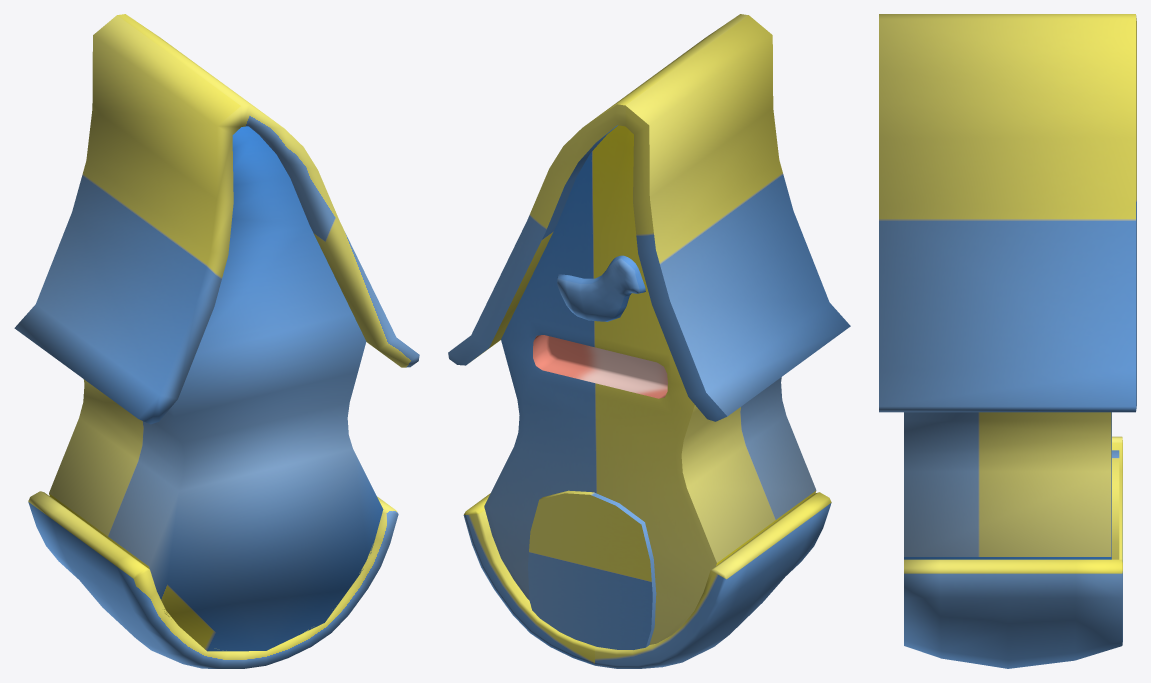
File: MailboxD_purple.fbx
3 renders of one model, left to right at view 1: azimuth 30°, elevation 25°; view 2: azimuth 150°, elevation 25°; view 3: azimuth 270°, elevation 25°, orthographic. The views are drawn at different scales.
Visible parts, largest first — view 1: MailboxD_base, MailboxD_roof; view 2: MailboxD_roof, MailboxD_base, MailboxD_birdie; view 3: MailboxD_roof, MailboxD_base.
Part boxes in pixels (x1=…): MailboxD_base: x1=49, y1=126, x2=383, y2=651; MailboxD_roof: x1=14, y1=14, x2=419, y2=668; MailboxD_roof: x1=448, y1=14, x2=850, y2=668; MailboxD_base: x1=484, y1=125, x2=816, y2=644; MailboxD_birdie: x1=557, y1=255, x2=645, y2=321; MailboxD_roof: x1=879, y1=14, x2=1136, y2=668; MailboxD_base: x1=904, y1=412, x2=1111, y2=559.
Size of the model in its own units: 120 by 245 by 92.07.
